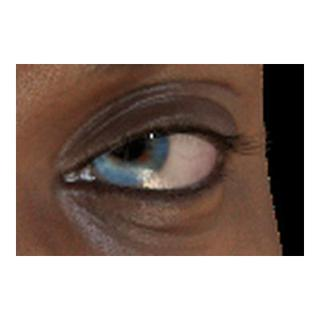pupil: (111, 128, 143, 160)
